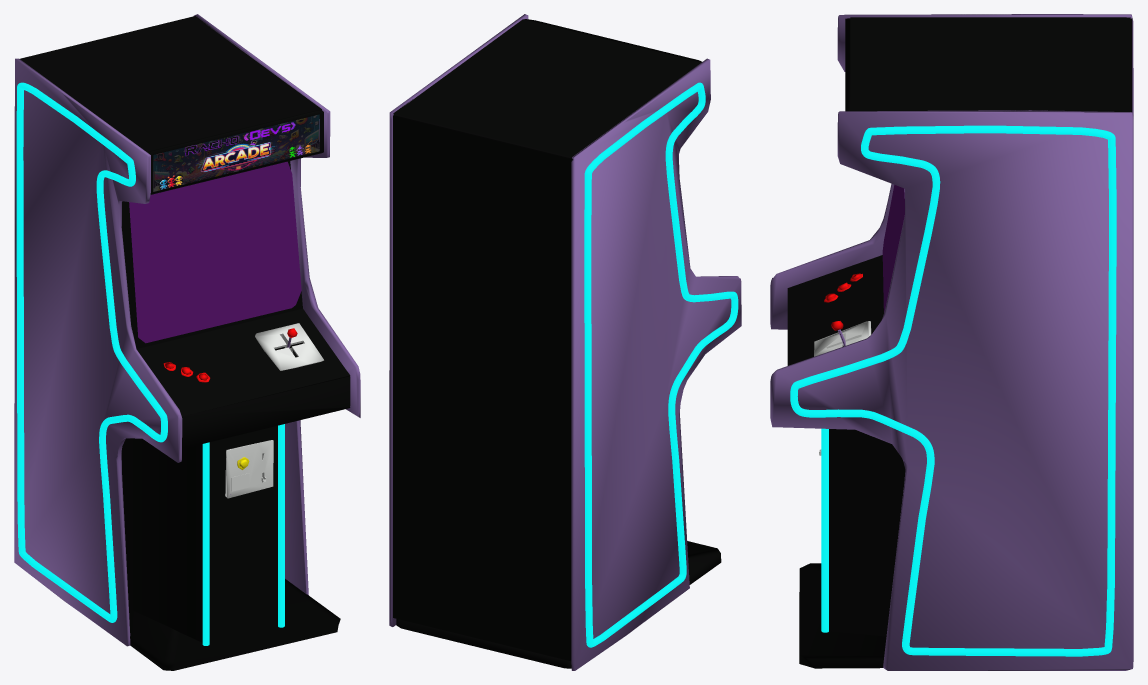
File: rachoArcade.glb
3 renders of one model, left to right at view 1: azimuth 30°, elevation 25°; view 2: azimuth 150°, elevation 25°; view 3: azimuth 270°, elevation 25°, orthographic. The views are drawn at different scales.
Visible parts, largest first — view 1: Screen.001, Sweep_NURBS_NEON_0, object 2; view 2: Screen.001, Sweep_NURBS_NEON_0; view 3: Screen.001, Sweep_NURBS_NEON_0.
Boxes of the visible parts, x1=… form: Screen.001: x1=14, y1=14, x2=360, y2=670; Sweep_NURBS_NEON_0: x1=16, y1=82, x2=284, y2=645; object 2: x1=153, y1=114, x2=319, y2=191; Screen.001: x1=389, y1=14, x2=741, y2=670; Sweep_NURBS_NEON_0: x1=584, y1=82, x2=738, y2=647; Screen.001: x1=770, y1=14, x2=1133, y2=670; Sweep_NURBS_NEON_0: x1=790, y1=125, x2=1116, y2=656.
Size of the model in its own units: 64.97 by 161 by 94.79.
Materials: 3 (3 with a texture image).
